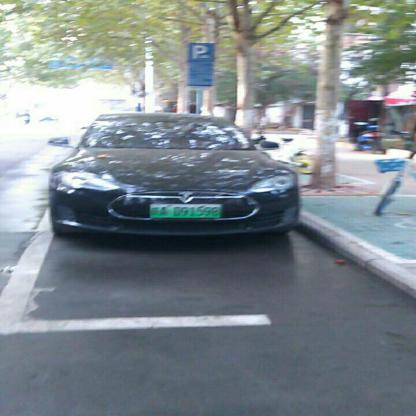lp: (149, 203, 223, 218)
